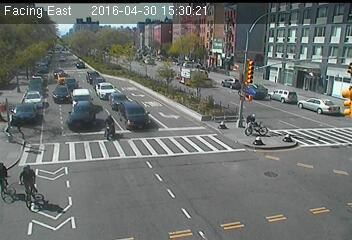neg: (15, 163, 48, 208), (64, 37, 95, 79), (1, 82, 28, 119), (2, 156, 28, 191), (300, 34, 326, 68), (122, 166, 147, 199), (238, 56, 263, 88), (158, 46, 179, 73), (262, 170, 282, 195), (99, 113, 117, 137), (243, 112, 260, 135), (214, 145, 231, 168), (162, 110, 178, 131), (285, 131, 295, 144)
